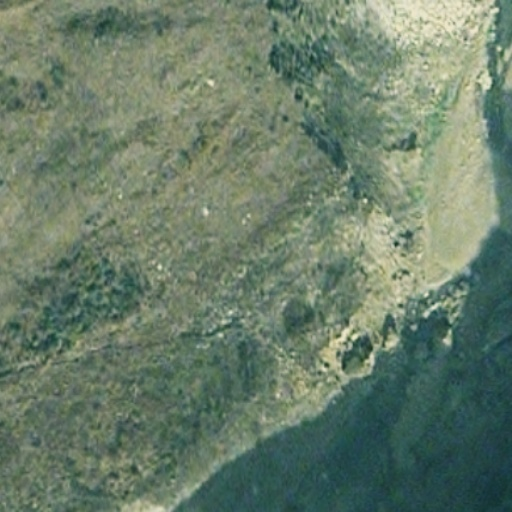landslide: (329, 204, 411, 378), (375, 3, 490, 89)
